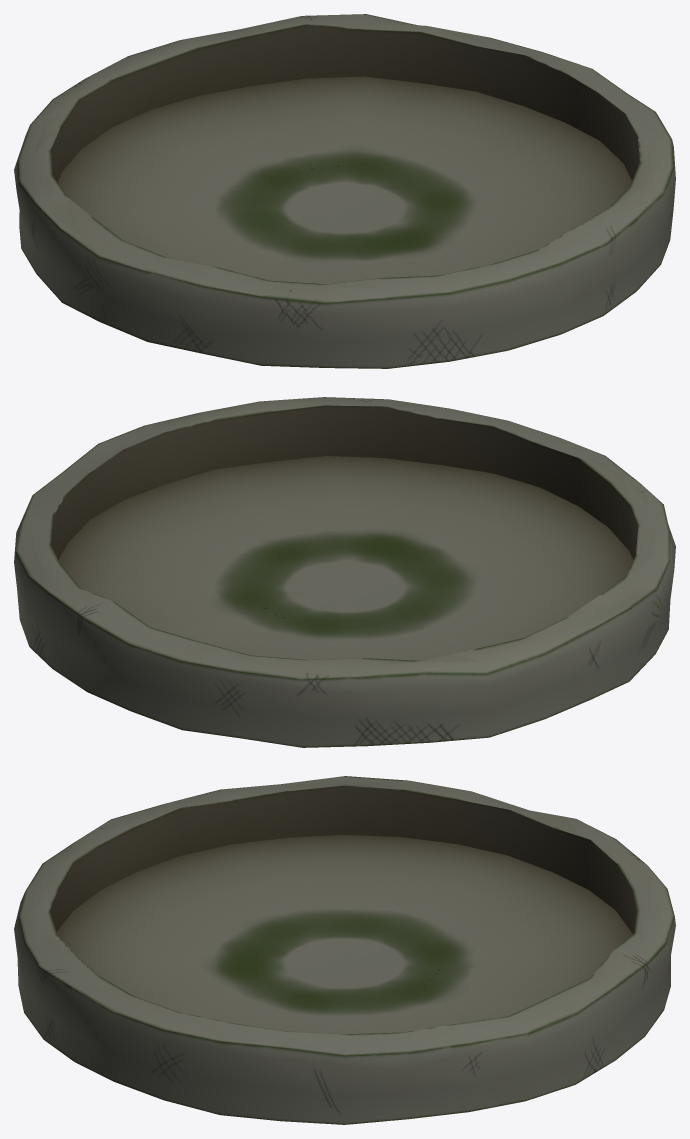
The model's file is FountainColliderMesh.fbx.
3 renders of one model, top to bottom at view 1: azimuth 30°, elevation 25°; view 2: azimuth 150°, elevation 25°; view 3: azimuth 270°, elevation 25°, orthographic.
Visible parts, largest first — view 1: FountainColliderMesh; view 2: FountainColliderMesh; view 3: FountainColliderMesh.
Part boxes in pixels (<box>): FountainColliderMesh: <box>14,14,675,368</box>; FountainColliderMesh: <box>14,397,675,747</box>; FountainColliderMesh: <box>14,776,675,1124</box>.
Size of the model in its own units: 446 by 65.1 by 446.
